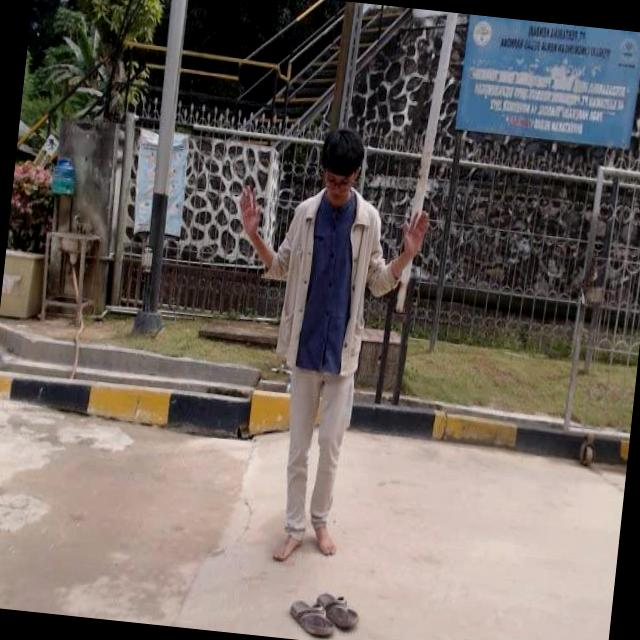no_vest: (257, 178, 404, 385)
